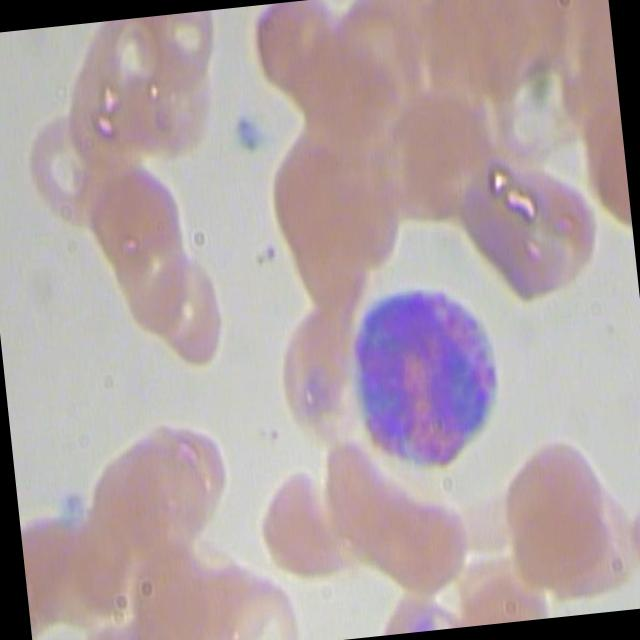Platelets: (227, 110, 265, 163)
RBC: (488, 427, 626, 601), (264, 290, 364, 437), (18, 103, 124, 231), (251, 456, 351, 587), (139, 244, 239, 375)
WBC: (335, 273, 515, 482)
